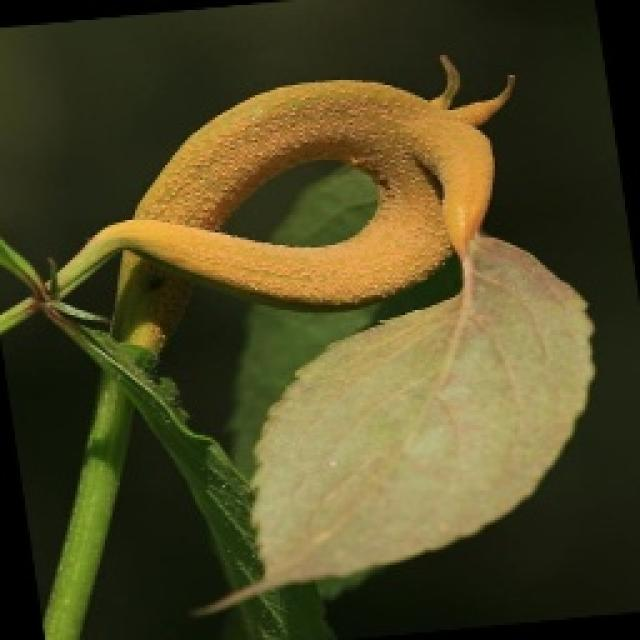Elderberry_rust: (133, 63, 494, 321)
